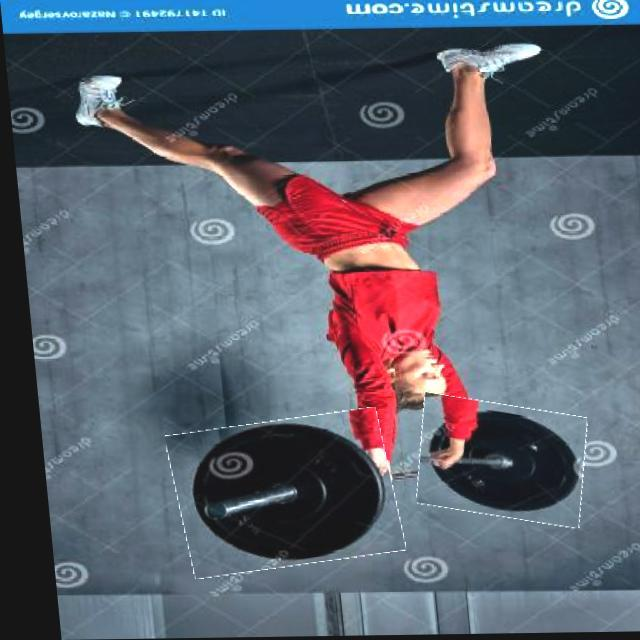barbell: (159, 415, 393, 574), (404, 399, 583, 526)
